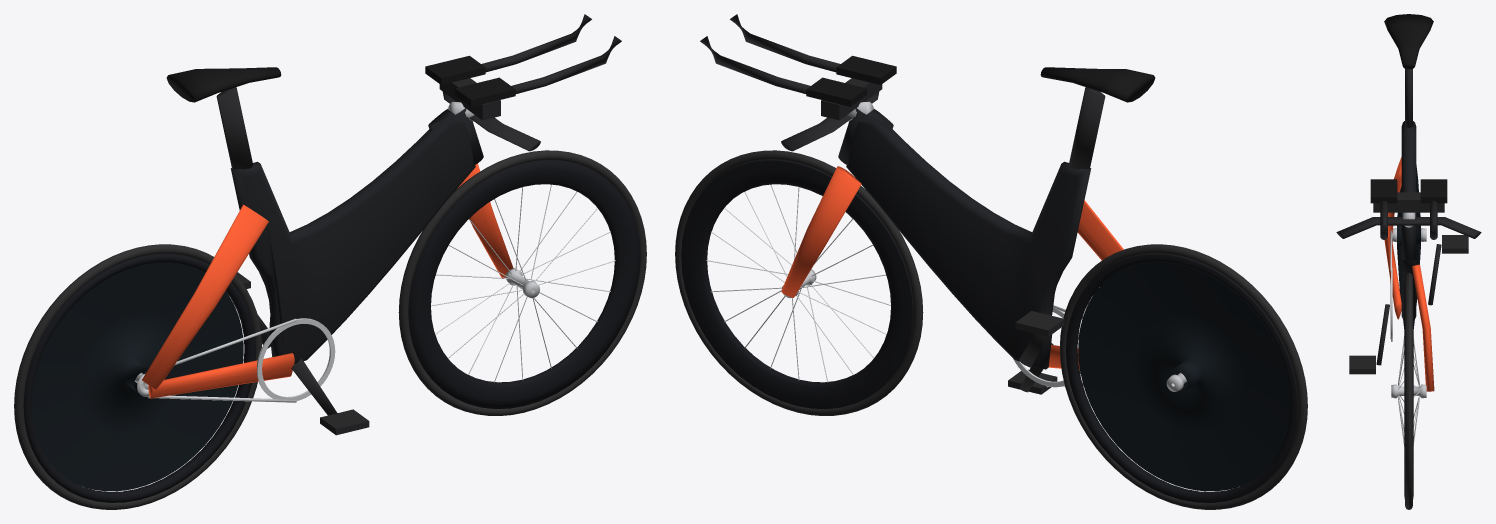
Rendered from bike.glb.
3 renders of one model, left to right at view 1: azimuth 30°, elevation 25°; view 2: azimuth 150°, elevation 25°; view 3: azimuth 270°, elevation 25°, orthographic. The views are drawn at different scales.
Parts seen in each view (by area): view 1: wheel_rear_disc, mono_wing, wheel_front_rim, wheel_rear_rim, wheel_front_tyre, wheel_rear_tyre, monostay, monochainstay, wheel_front_spokes, saddle, seatpost, fork_mono (+10 smaller); view 2: wheel_rear_disc, mono_wing, wheel_front_rim, wheel_rear_rim, wheel_rear_tyre, wheel_front_tyre, fork_mono, saddle, wheel_front_spokes, seatpost, monostay, armpad_r (+7 smaller); view 3: wheel_front_tyre, saddle, mono_wing, base_bar, fork_mono, pad_riser, armpad_l, armpad_r, wheel_rear_disc, wheel_front_spokes, monochainstay, head_tube (+10 smaller).
Boxes of the visible parts, box(x1,y1,x2,y2) form: wheel_rear_disc: box(31, 262, 243, 491); mono_wing: box(230, 121, 475, 363); wheel_front_rim: box(408, 160, 640, 409); wheel_rear_rim: box(23, 254, 255, 502); wheel_front_tyre: box(398, 150, 646, 415); wheel_rear_tyre: box(14, 244, 261, 509); monostay: box(142, 204, 268, 389); monochainstay: box(148, 353, 294, 398); wheel_front_spokes: box(431, 184, 615, 382); saddle: box(166, 67, 281, 102); seatpost: box(216, 87, 253, 169); fork_mono: box(457, 163, 513, 278); wheel_rear_disc: box(1078, 262, 1290, 491); mono_wing: box(846, 121, 1091, 369); wheel_front_rim: box(681, 160, 913, 409); wheel_rear_rim: box(1066, 254, 1298, 502); wheel_rear_tyre: box(1059, 244, 1307, 509); wheel_front_tyre: box(675, 150, 923, 415); fork_mono: box(781, 166, 861, 297); saddle: box(1040, 67, 1155, 102); wheel_front_spokes: box(706, 184, 890, 382); seatpost: box(1068, 87, 1105, 169); monostay: box(1077, 200, 1123, 260); armpad_r: box(806, 77, 866, 106); wheel_front_tyre: box(1405, 273, 1412, 509); saddle: box(1384, 14, 1433, 69); mono_wing: box(1401, 121, 1416, 319); base_bar: box(1336, 217, 1481, 238); fork_mono: box(1412, 264, 1434, 391); pad_riser: box(1373, 192, 1444, 212); armpad_l: box(1370, 179, 1397, 203); armpad_r: box(1420, 179, 1447, 203); wheel_rear_disc: box(1397, 165, 1420, 328); wheel_front_spokes: box(1398, 336, 1419, 446); monochainstay: box(1384, 237, 1401, 319); head_tube: box(1401, 212, 1416, 260).
Bounding box in the file's own units: 1.71 × 1.08 × 0.4091.
